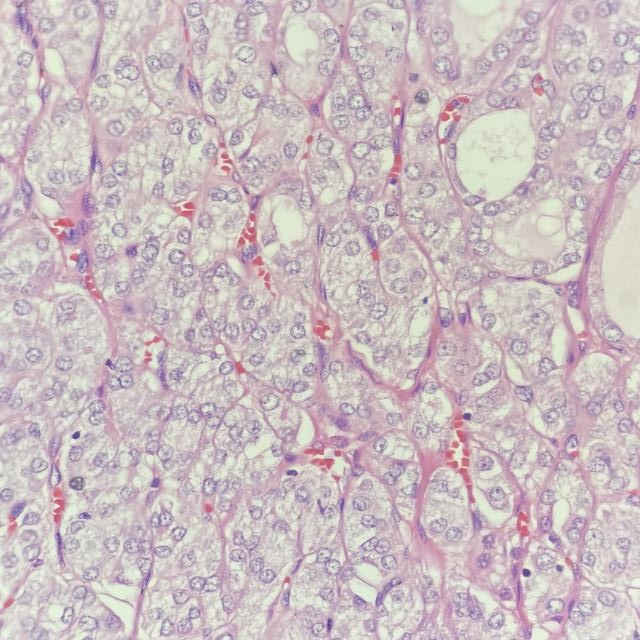TC: (275, 255, 310, 282), (482, 481, 514, 510), (276, 137, 308, 165), (412, 178, 445, 203), (399, 205, 433, 229), (416, 374, 448, 399), (366, 342, 394, 370), (384, 270, 411, 299), (321, 354, 351, 380), (360, 302, 392, 326), (510, 380, 538, 407), (231, 288, 259, 315), (468, 455, 500, 478), (432, 336, 461, 361), (348, 136, 374, 162), (320, 224, 342, 254), (425, 512, 454, 534), (223, 183, 247, 208), (527, 309, 553, 332), (284, 380, 312, 401), (474, 310, 498, 334), (335, 396, 358, 421), (376, 409, 403, 430), (241, 348, 266, 369), (465, 243, 494, 261), (286, 319, 308, 341), (508, 336, 529, 356)
